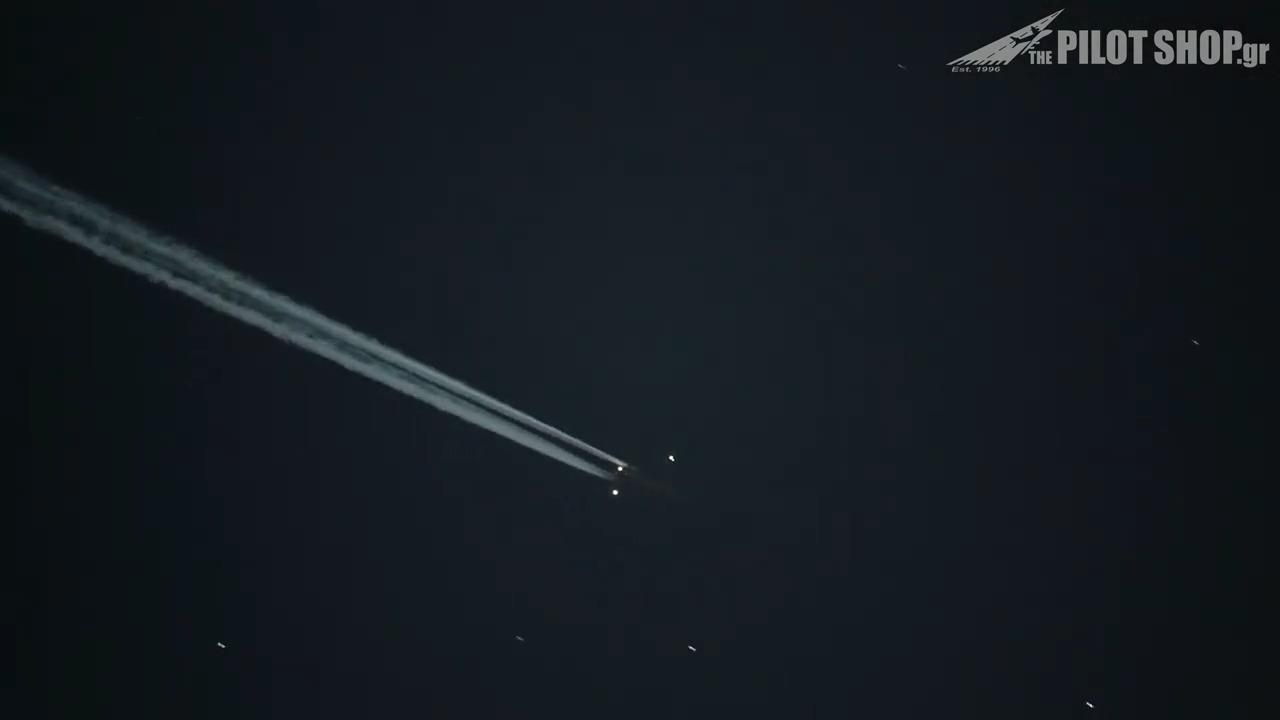Plane: (521, 439, 740, 514)
